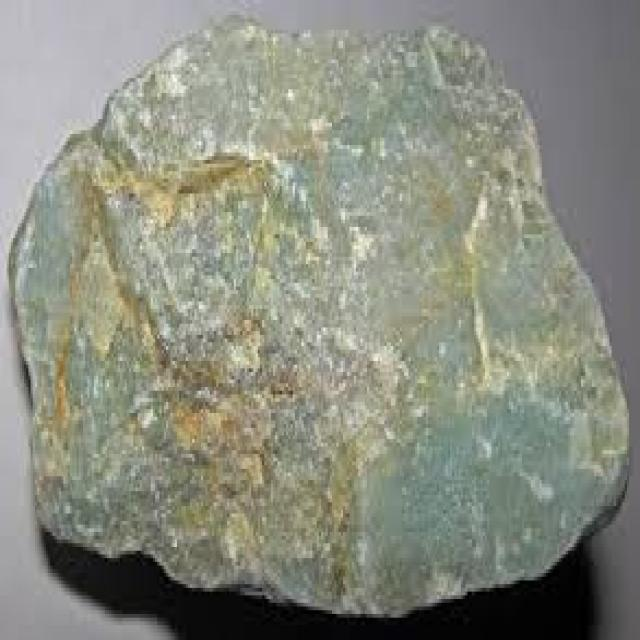Metamorphic: (13, 11, 629, 618)
